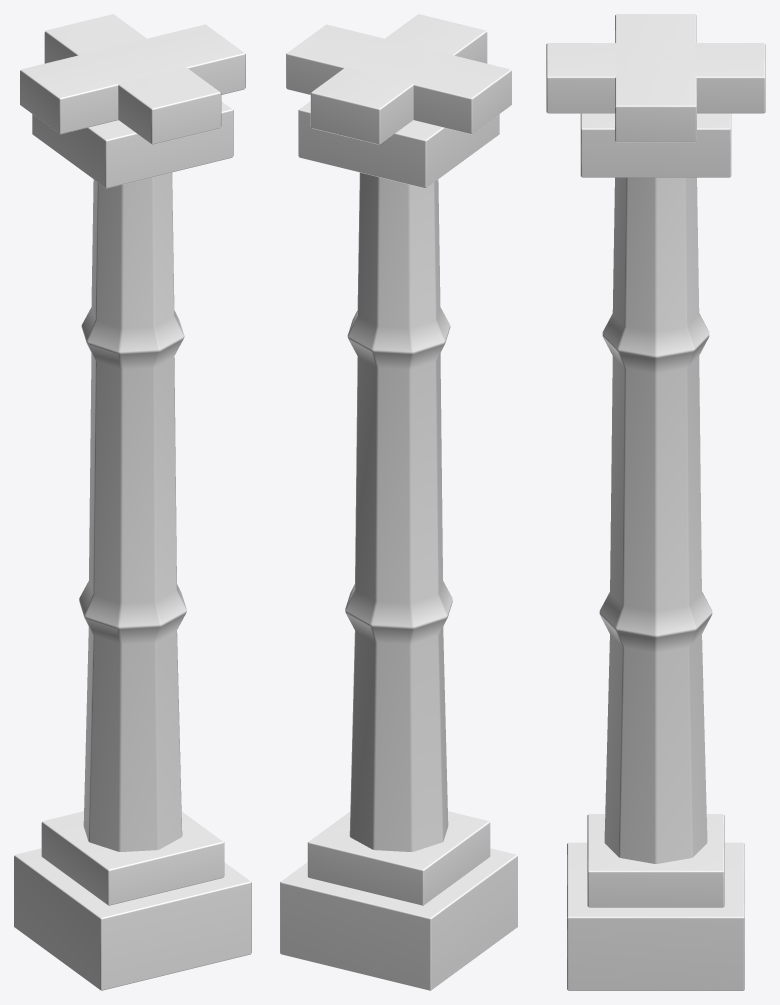
The model's file is pillar.glb.
3 renders of one model, left to right at view 1: azimuth 30°, elevation 25°; view 2: azimuth 150°, elevation 25°; view 3: azimuth 270°, elevation 25°, orthographic.
Parts seen in each view (by area): view 1: Pillar; view 2: Pillar; view 3: Pillar.
Boxes of the visible parts, box(x1,y1,x2,y2) form: Pillar: box(14, 14, 251, 990); Pillar: box(280, 14, 517, 990); Pillar: box(546, 14, 765, 990).
Size of the model in its own units: 1.6 by 7.2 by 1.6.
1 material, 1 textured.
